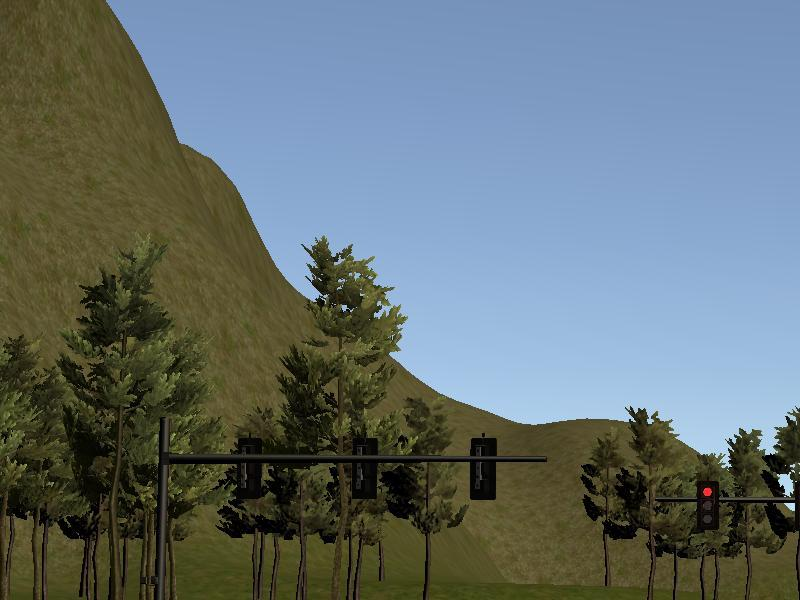Red: (698, 482, 720, 534)
